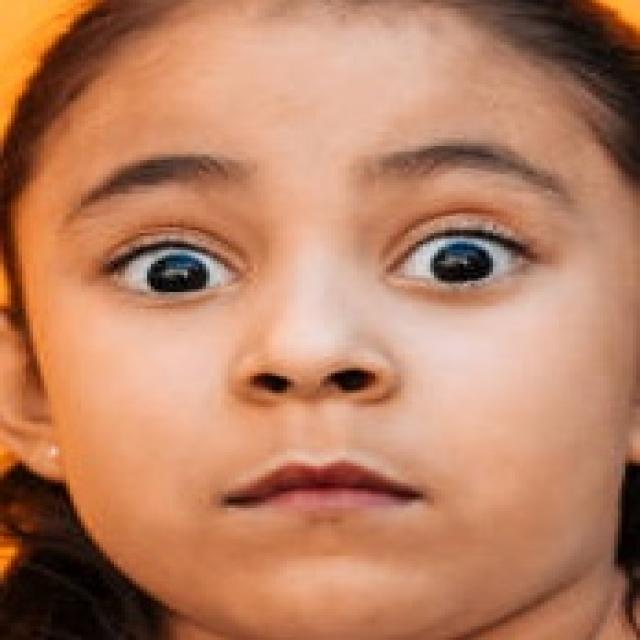Anxiety: (6, 0, 636, 637)
